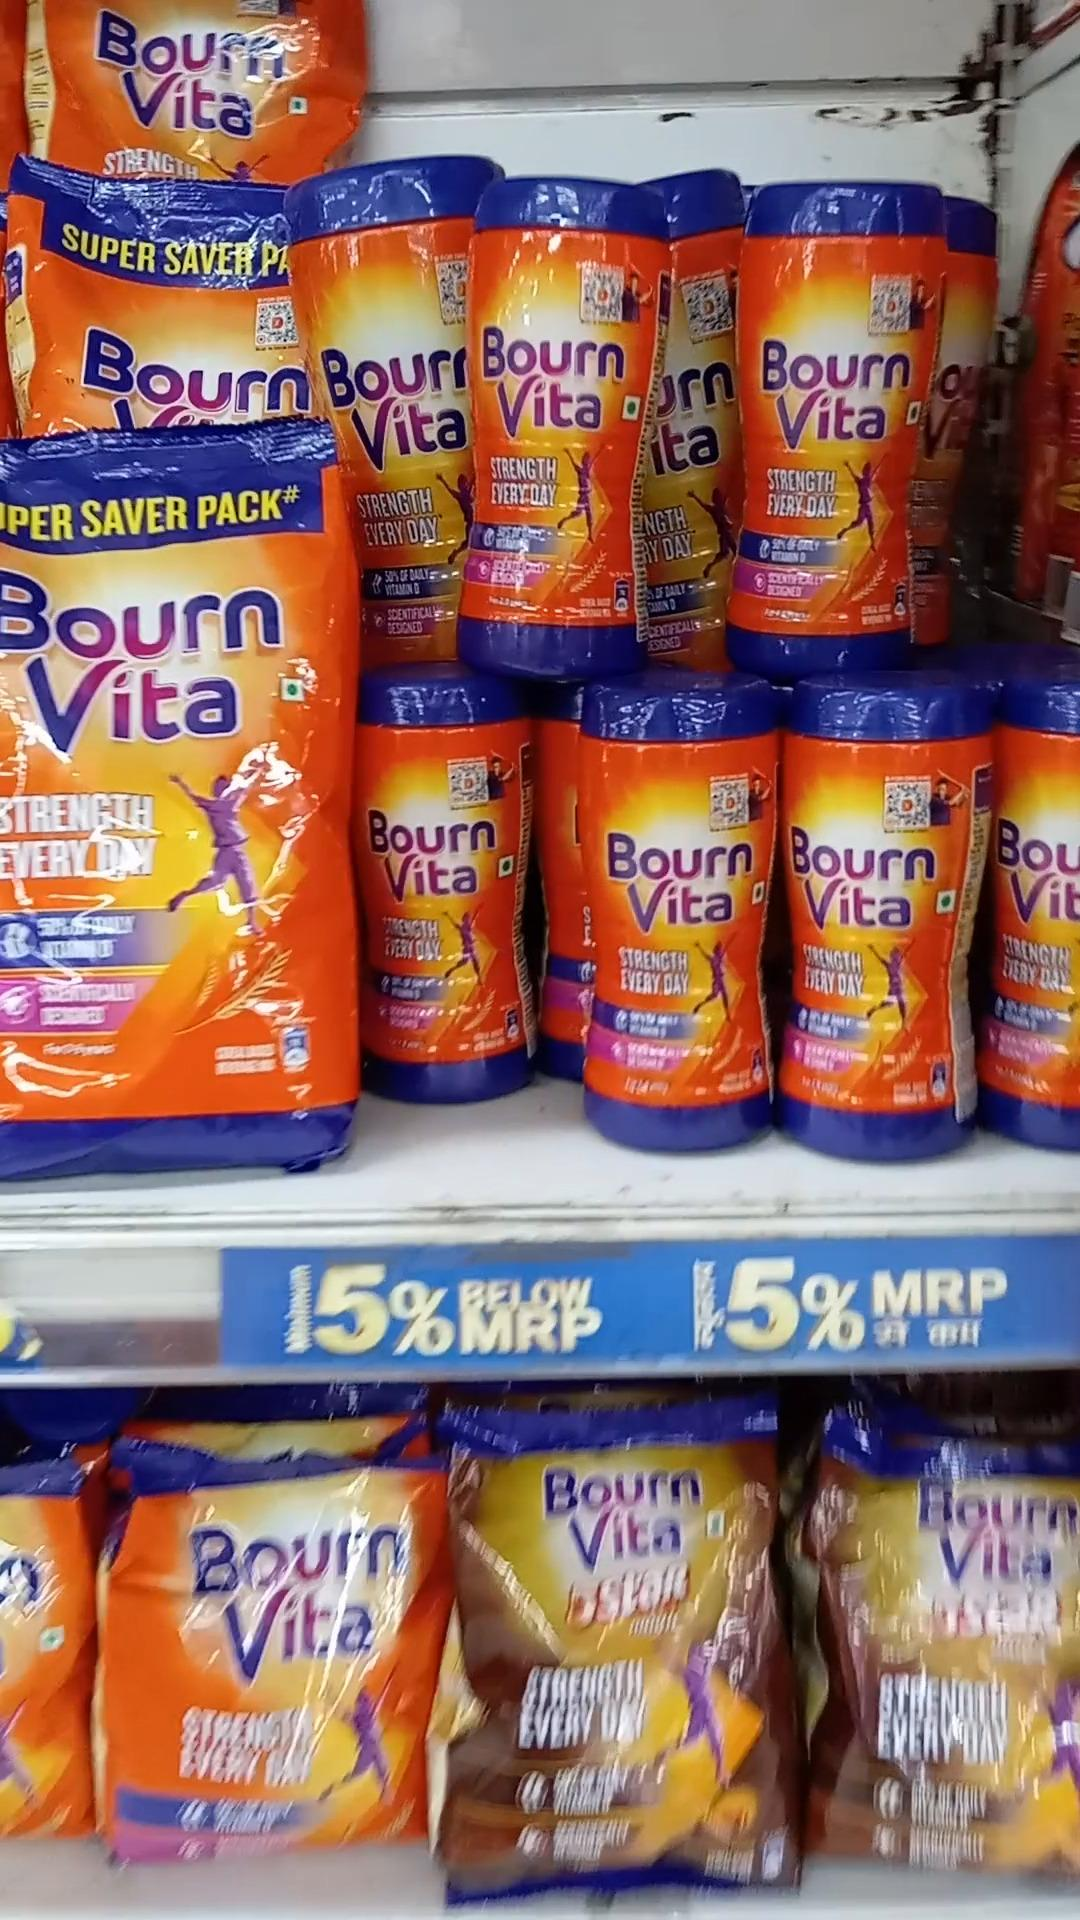BOURN_VITA_1_KG_POUCH: (5, 421, 357, 1187)
BOURN_VITA_500_G_JAR: (787, 679, 988, 1163), (574, 682, 774, 1153), (741, 182, 924, 667), (475, 186, 657, 673), (372, 680, 535, 1102)
BOURN_VITA_500_G_POUCH: (104, 1441, 426, 1870)
BOURN_VITA_FIVE_STAR_MAGIC_500_G_POUCH: (436, 1416, 796, 1896), (811, 1411, 1080, 1876)
